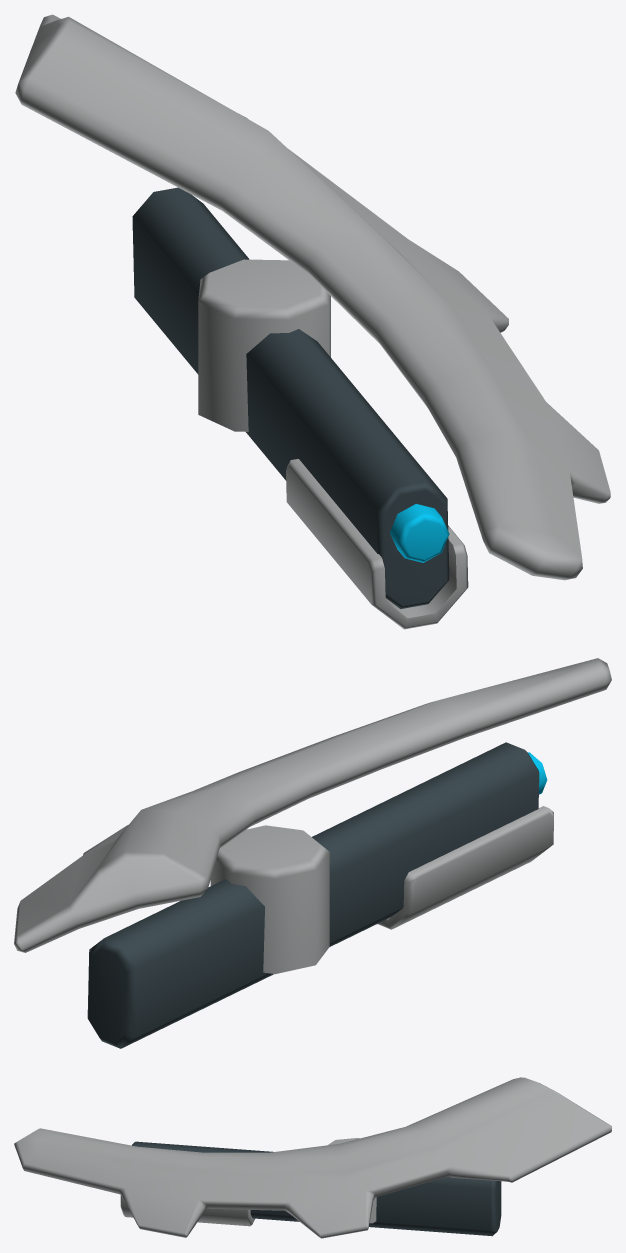
The model's file is Drone_006_wing_001.fbx.
3 renders of one model, top to bottom at view 1: azimuth 30°, elevation 25°; view 2: azimuth 150°, elevation 25°; view 3: azimuth 270°, elevation 25°, orthographic. The views are drawn at different scales.
Parts seen in each view (by area): view 1: Drone_006_wing_001; view 2: Drone_006_wing_001; view 3: Drone_006_wing_001.
Boxes of the visible parts, <box> form: Drone_006_wing_001: <box>15,14,610,629</box>; Drone_006_wing_001: <box>14,658,611,1048</box>; Drone_006_wing_001: <box>14,1077,611,1238</box>.
Bounding box in the file's own units: 18.59 × 58.79 × 15.83.
